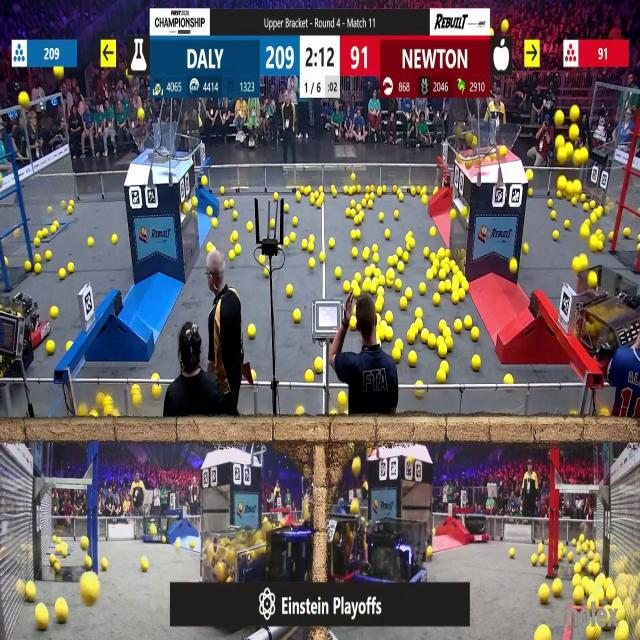ball_airborne: (352, 457, 362, 476), (570, 105, 580, 123), (573, 148, 584, 164), (588, 273, 598, 288), (558, 147, 566, 164), (556, 110, 565, 125), (351, 498, 359, 514), (18, 92, 27, 106), (579, 150, 587, 165), (570, 126, 578, 140), (581, 147, 589, 161), (558, 176, 566, 190), (57, 68, 65, 82), (500, 21, 508, 34), (572, 180, 580, 192), (556, 136, 564, 148), (138, 108, 145, 120), (566, 181, 572, 194), (566, 143, 572, 155), (526, 170, 533, 180), (499, 147, 506, 156), (202, 176, 208, 186), (488, 29, 494, 38), (590, 202, 596, 210), (363, 482, 368, 491), (472, 137, 477, 146), (584, 204, 589, 212), (579, 194, 584, 200)
ball_ground: (36, 606, 49, 632), (572, 587, 583, 605), (27, 583, 37, 602), (554, 580, 564, 598), (471, 355, 480, 371), (409, 352, 418, 367), (315, 357, 323, 373), (45, 341, 54, 355), (510, 261, 519, 275), (306, 371, 315, 384), (606, 588, 614, 602), (49, 307, 58, 319), (439, 345, 448, 357), (349, 316, 356, 331), (464, 316, 472, 329), (438, 370, 446, 383), (470, 327, 478, 340), (392, 349, 400, 362), (248, 324, 255, 338), (432, 292, 440, 304), (86, 557, 94, 569), (441, 359, 449, 371), (420, 282, 427, 295), (386, 327, 393, 340), (504, 375, 512, 386), (78, 407, 86, 418), (376, 302, 384, 313), (454, 320, 462, 331), (386, 312, 393, 324), (399, 299, 406, 311), (81, 536, 88, 548), (416, 389, 424, 399), (415, 319, 423, 329), (572, 574, 580, 584), (295, 408, 303, 418), (452, 292, 460, 302), (286, 284, 292, 297), (293, 310, 299, 323), (344, 281, 351, 292), (406, 288, 413, 299), (102, 558, 108, 570), (532, 554, 538, 566), (353, 287, 361, 296), (232, 232, 239, 242), (416, 308, 423, 318), (573, 562, 580, 572), (319, 251, 325, 262), (26, 262, 32, 273), (36, 264, 42, 275), (523, 243, 529, 254), (567, 553, 574, 562), (601, 409, 608, 418), (440, 320, 447, 329), (385, 230, 391, 240), (427, 545, 432, 557), (61, 270, 67, 280), (440, 270, 446, 280), (409, 240, 415, 250), (539, 555, 545, 565), (34, 238, 40, 248), (421, 196, 428, 204), (460, 290, 465, 301), (328, 239, 334, 248), (352, 248, 358, 257), (398, 263, 404, 272), (68, 265, 74, 274), (388, 270, 394, 279), (206, 243, 212, 252), (564, 219, 570, 228), (247, 221, 252, 231), (337, 269, 342, 279), (396, 280, 401, 290), (427, 271, 432, 281), (191, 198, 196, 208), (429, 229, 435, 237), (289, 234, 295, 242), (378, 286, 384, 294), (354, 216, 360, 224), (355, 273, 361, 281), (379, 278, 385, 286), (554, 232, 559, 241), (424, 248, 429, 257), (403, 252, 408, 261), (394, 210, 399, 219), (346, 208, 351, 217), (608, 233, 613, 242), (252, 369, 256, 380), (366, 202, 372, 209), (92, 412, 99, 418), (36, 254, 42, 261), (90, 238, 94, 248), (207, 208, 212, 216), (309, 260, 314, 268), (361, 201, 366, 209), (528, 187, 533, 195), (284, 239, 289, 247), (68, 207, 73, 215), (538, 543, 542, 552), (351, 281, 357, 287), (234, 211, 238, 220), (350, 202, 356, 208), (380, 213, 384, 221), (274, 192, 278, 200), (163, 535, 167, 543), (224, 201, 228, 209), (220, 186, 224, 194), (284, 205, 288, 212)
goal: (132, 132, 188, 159)
robot_blue: (357, 520, 426, 590), (211, 529, 267, 586)
robot_red: (574, 296, 636, 366), (316, 512, 366, 584), (0, 292, 52, 351), (468, 512, 492, 539)
